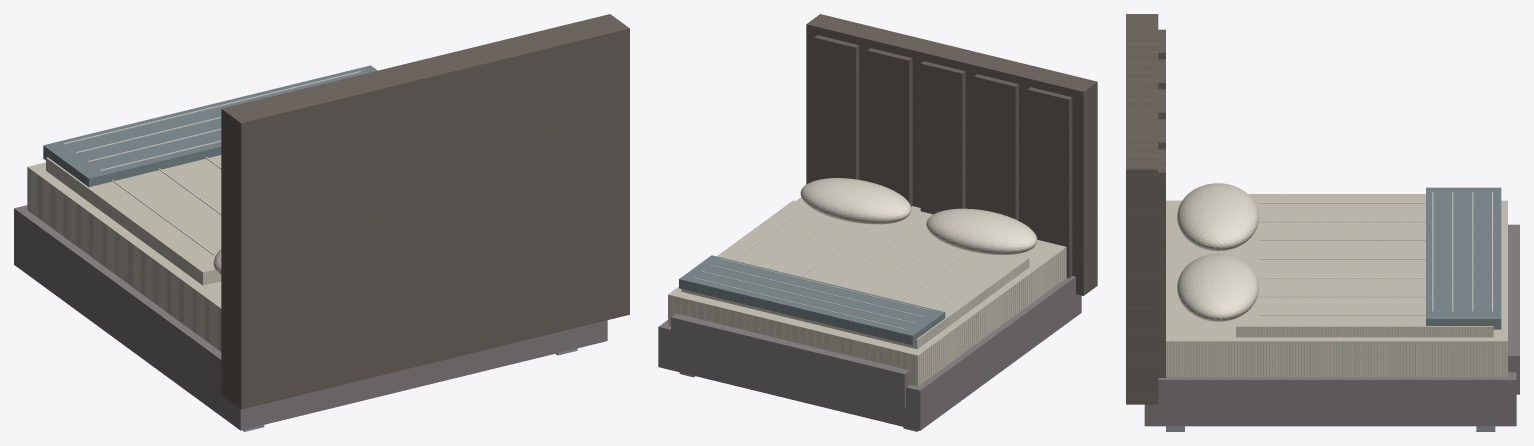
File: nexus-upholstered-bed.glb
The picture shows the model from 3 angles, left to right: view 1: azimuth 30°, elevation 25°; view 2: azimuth 150°, elevation 25°; view 3: azimuth 270°, elevation 25°; orthographic projection. The views are drawn at different scales.
Parts seen in each view (by area): view 1: upholstered headboard backing, raised bed platform, linen duvet, mattress, folded throw, throw stitch 0; view 2: linen duvet, upholstered headboard backing, raised bed platform, mattress, folded throw, bed frame foot edge, headboard padded channel 0, headboard padded channel 2, headboard padded channel 4, headboard padded channel 3, headboard padded channel 1, lofted pillow 0 (+1 smaller); view 3: linen duvet, mattress, raised bed platform, upholstered headboard backing, folded throw, lofted pillow 1, lofted pillow 0, bed frame foot edge, headboard padded channel 4.
Boxes of the visible parts, <box> form: upholstered headboard backing: <box>221,14,629,409</box>; raised bed platform: <box>14,205,607,430</box>; linen duvet: <box>46,155,221,285</box>; mattress: <box>27,162,221,351</box>; folded throw: <box>43,65,377,186</box>; throw stitch 0: <box>63,71,360,144</box>; linen duvet: <box>681,200,1029,349</box>; upholstered headboard backing: <box>806,14,1097,295</box>; raised bed platform: <box>658,276,1081,430</box>; mattress: <box>668,197,1066,386</box>; folded throw: <box>679,255,945,345</box>; bed frame foot edge: <box>671,313,909,407</box>; headboard padded channel 0: <box>1027,87,1072,278</box>; headboard padded channel 2: <box>920,61,965,214</box>; headboard padded channel 4: <box>814,35,859,180</box>; headboard padded channel 3: <box>867,48,912,206</box>; headboard padded channel 1: <box>974,74,1018,220</box>; lofted pillow 0: <box>926,208,1037,254</box>; linen duvet: <box>1236,194,1493,337</box>; mattress: <box>1166,200,1507,376</box>; raised bed platform: <box>1144,372,1516,426</box>; upholstered headboard backing: <box>1126,14,1158,404</box>; folded throw: <box>1426,187,1501,329</box>; lofted pillow 1: <box>1177,253,1258,321</box>; lofted pillow 0: <box>1177,183,1258,251</box>; bed frame foot edge: <box>1508,224,1519,394</box>; headboard padded channel 4: <box>1158,149,1165,377</box>.
Bounding box in the file's own units: 2.16 × 1.77 × 2.31.
7 materials, 4 textured.
